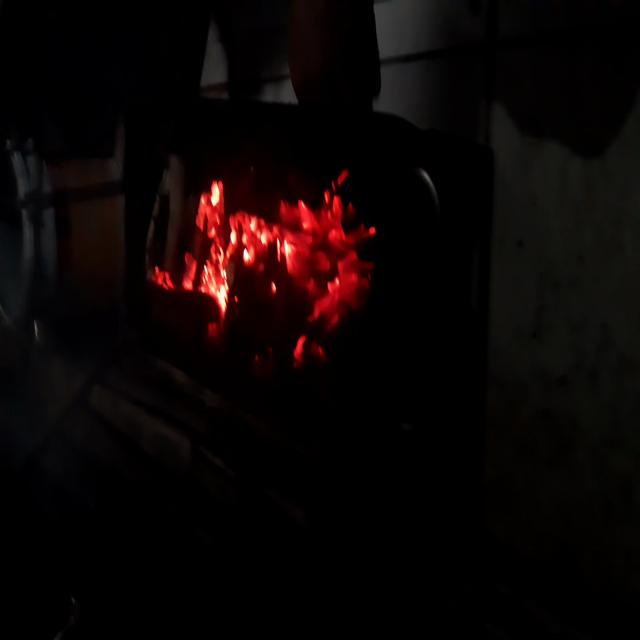Fire: (200, 166, 389, 321)
